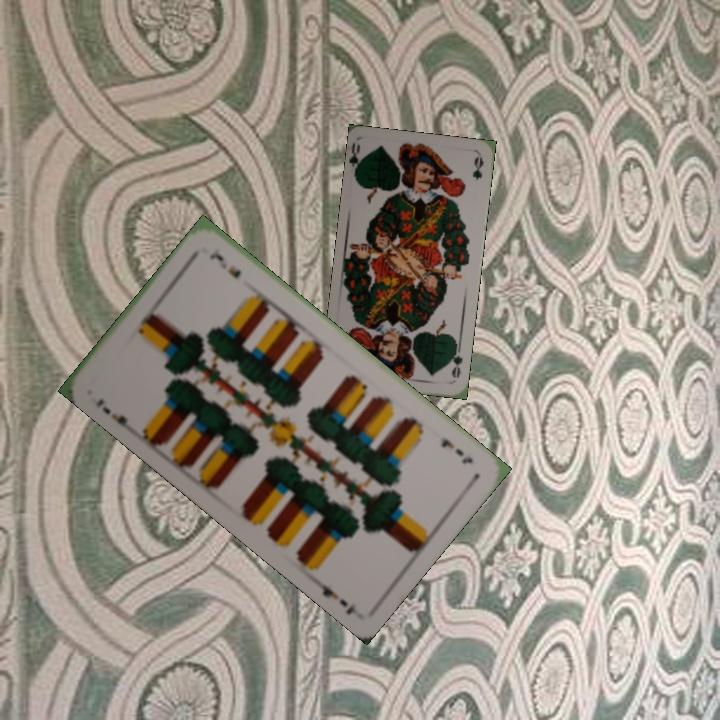E7: (92, 394, 135, 434), (437, 435, 476, 467)
GO: (347, 140, 368, 181), (446, 341, 465, 381)
